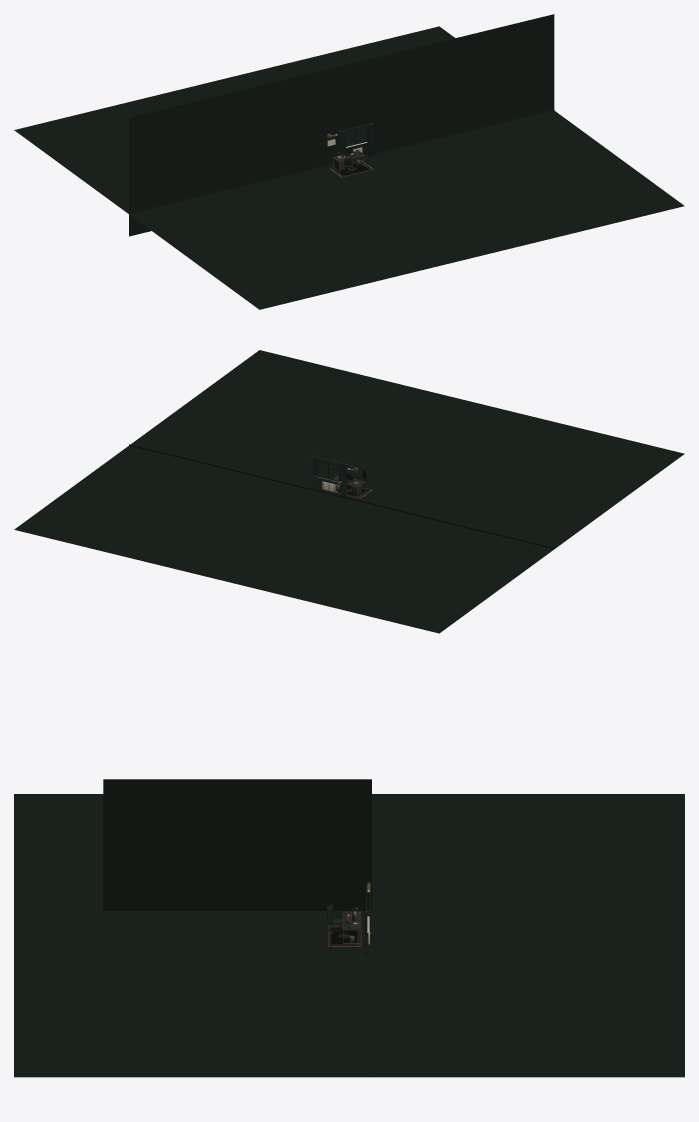
File: story-room.glb
The picture shows the model from 3 angles, top to bottom: view 1: azimuth 30°, elevation 25°; view 2: azimuth 150°, elevation 25°; view 3: azimuth 270°, elevation 25°; orthographic projection. The views are drawn at different scales.
Visible parts, largest first — view 1: Floor, WallBack, Baseboard; view 2: Floor, Baseboard; view 3: Floor, WallLeft.
Part boxes in pixels (x1,y1,x2,y2): Floor: (14, 26, 684, 309); WallBack: (129, 14, 554, 236); Baseboard: (129, 109, 554, 214); Floor: (14, 350, 684, 633); Baseboard: (129, 444, 554, 549); Floor: (14, 794, 684, 1077); WallLeft: (103, 779, 371, 910).
Bounding box in the file's own units: 30 × 8 × 30.
45 materials, 1 textured.
